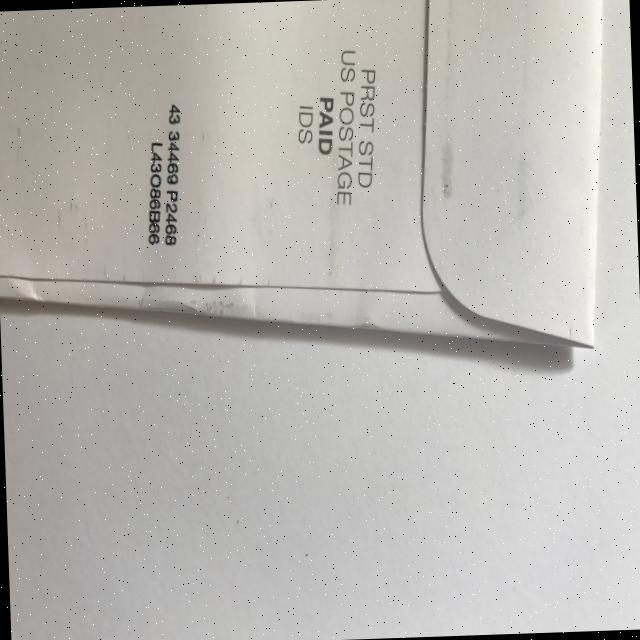paper: (0, 0, 617, 370)
